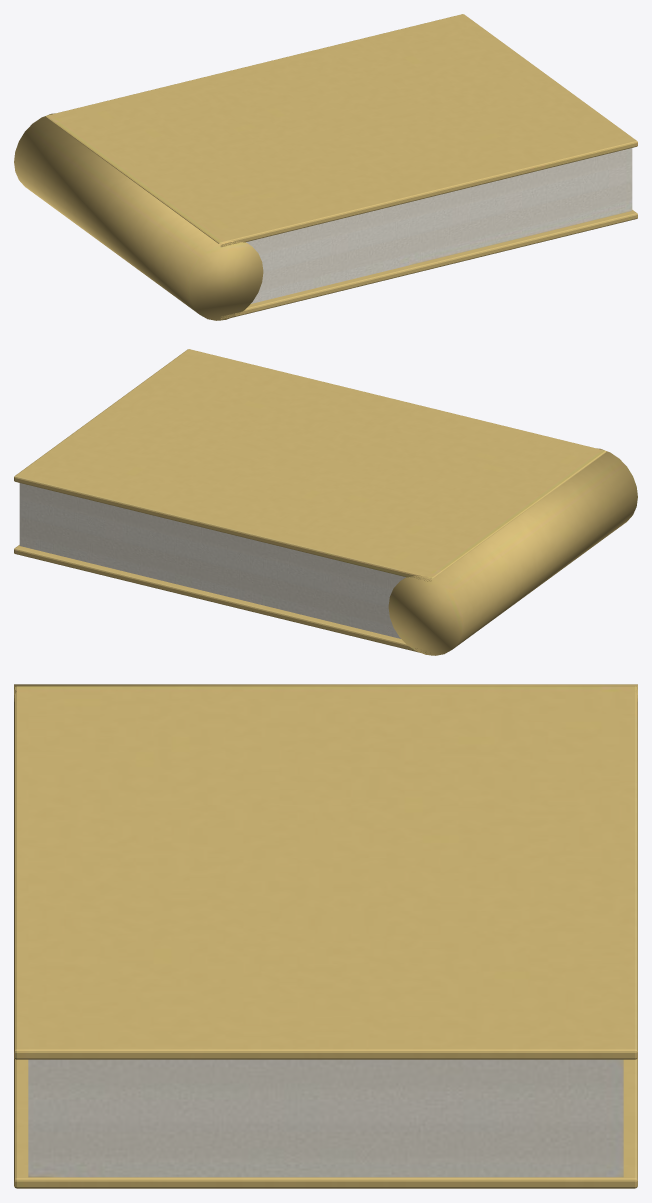
Rendered from book_gold.glb.
The picture shows the model from 3 angles, top to bottom: view 1: azimuth 30°, elevation 25°; view 2: azimuth 150°, elevation 25°; view 3: azimuth 270°, elevation 25°; orthographic projection. The views are drawn at different scales.
Parts seen in each view (by area): view 1: book_gold; view 2: book_gold; view 3: book_gold.
Part boxes in pixels (left/top/right/bottom): book_gold: left=14, top=14, right=637, bottom=320; book_gold: left=14, top=349, right=637, bottom=655; book_gold: left=14, top=684, right=637, bottom=1188.
Bounding box in the file's own units: 9.65 × 1.6 × 6.5.
Materials: 1 (1 with a texture image).
